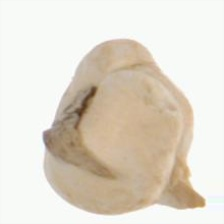L3: (156, 176, 206, 211)
L4: (41, 38, 208, 215)
